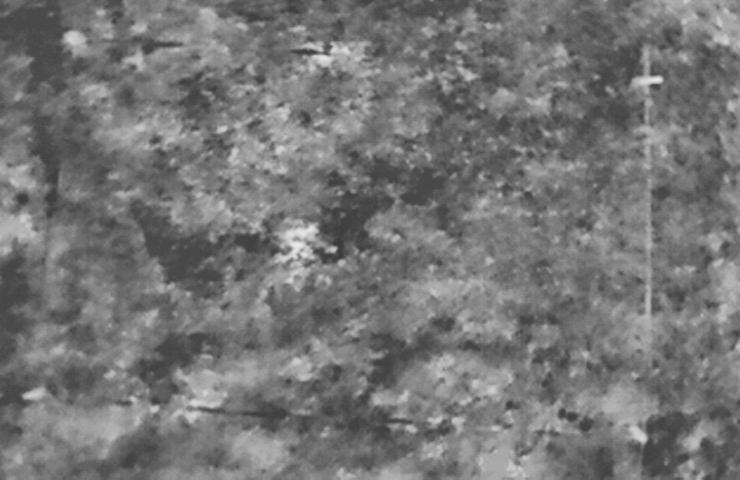landmines: (275, 219, 326, 266)
